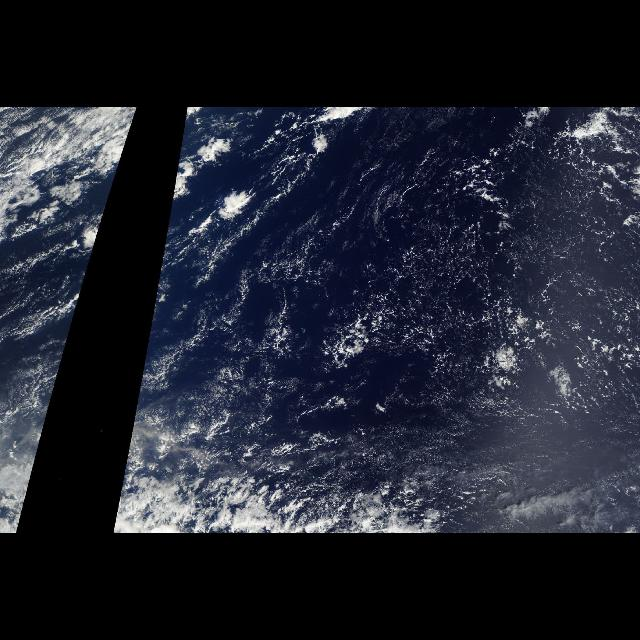Gravel: (356, 120, 632, 432)
